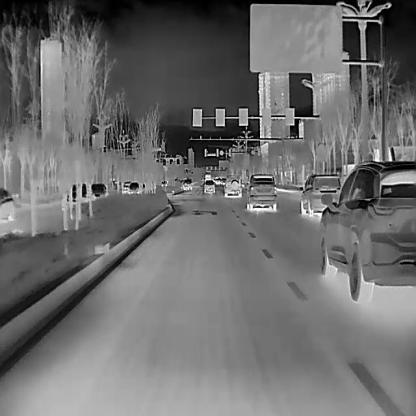car: (319, 159, 415, 305), (299, 173, 341, 214), (245, 173, 276, 210), (66, 183, 106, 202), (223, 175, 240, 196), (203, 180, 215, 193), (128, 181, 139, 195)
